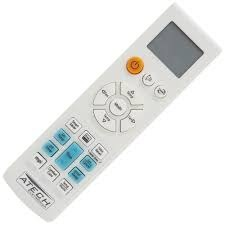remote control: (6, 8, 224, 219)
